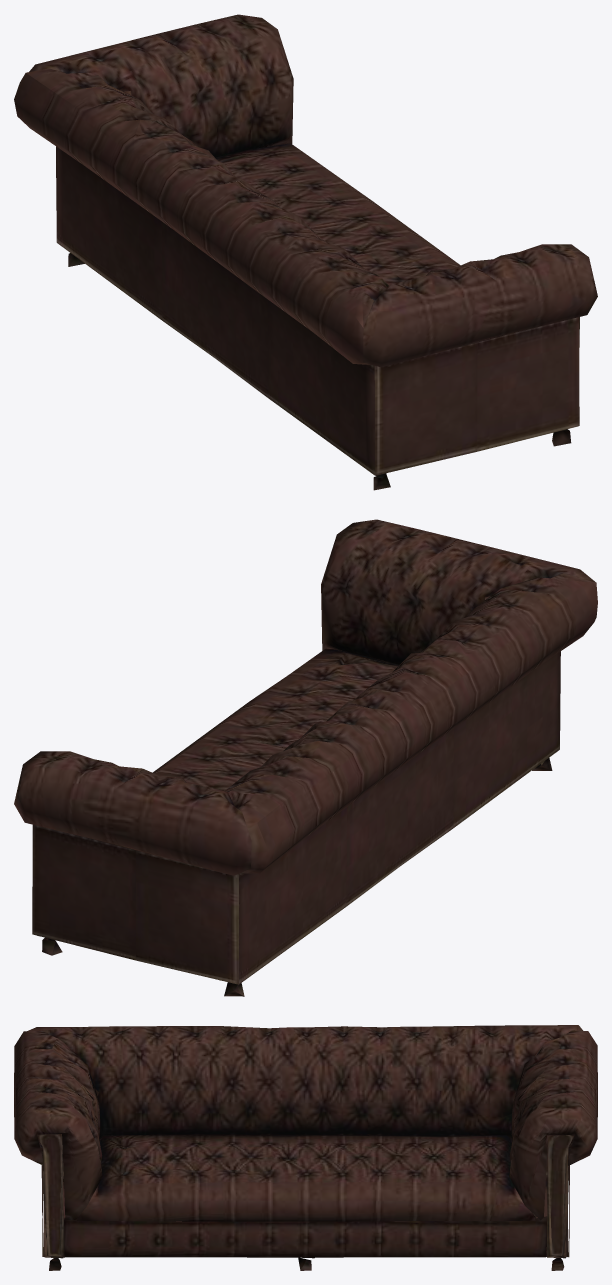
Rendered from M_Sofa0009.obj.
3 views of the same model, one above another, from view 1: azimuth 30°, elevation 25°; view 2: azimuth 150°, elevation 25°; view 3: azimuth 270°, elevation 25° (orthographic). The views are drawn at different scales.
Size of the model in its own units: 1.01 by 0.787 by 2.51.
1 material, 1 textured.
